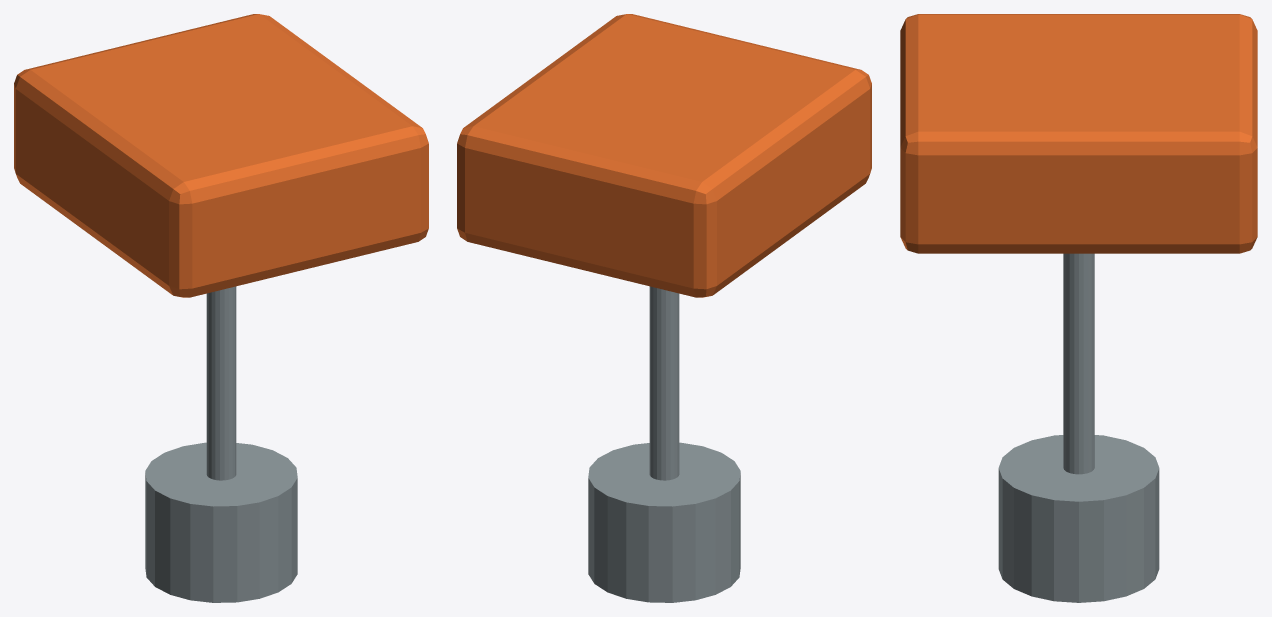
The model's file is SM_CustomFabricationCenter_Motion.001.fbx.
The picture shows the model from 3 angles, left to right: view 1: azimuth 30°, elevation 25°; view 2: azimuth 150°, elevation 25°; view 3: azimuth 270°, elevation 25°; orthographic projection. The views are drawn at different scales.
Visible parts, largest first — view 1: SM_CustomFabricationCenter_Motion.001; view 2: SM_CustomFabricationCenter_Motion.001; view 3: SM_CustomFabricationCenter_Motion.001.
Boxes of the visible parts, x1,y1,x2,y2 form: SM_CustomFabricationCenter_Motion.001: [14, 14, 428, 602]; SM_CustomFabricationCenter_Motion.001: [457, 14, 871, 602]; SM_CustomFabricationCenter_Motion.001: [900, 14, 1257, 602].
Bounding box in the file's own units: 70 × 80 × 123.
